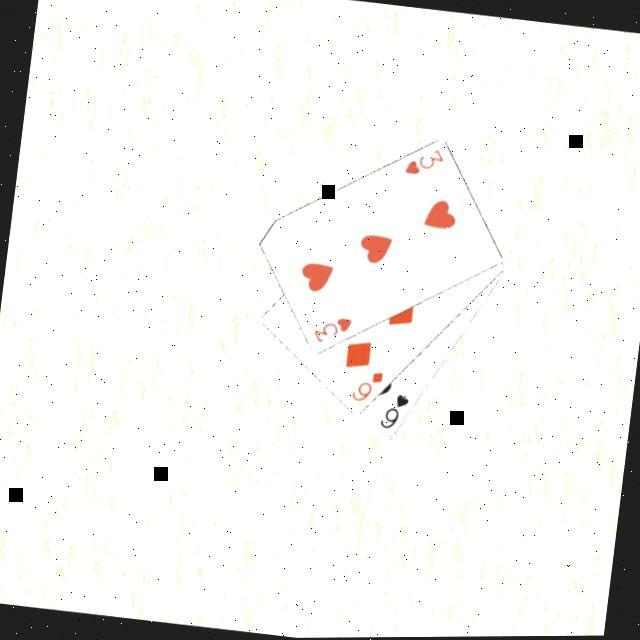3H: (306, 308, 354, 347), (398, 140, 446, 179)
6D: (345, 364, 385, 406)
6S: (374, 387, 411, 433)
